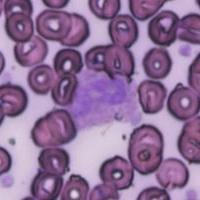N: (70, 71, 140, 128)
